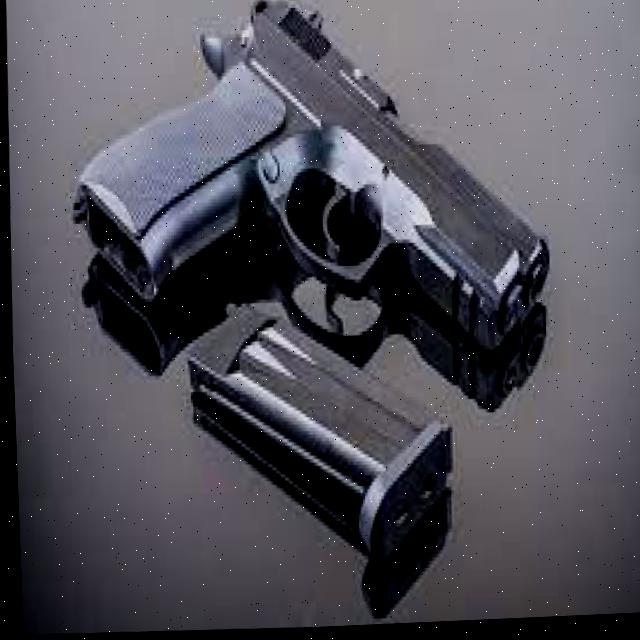gun: (73, 1, 551, 352)
